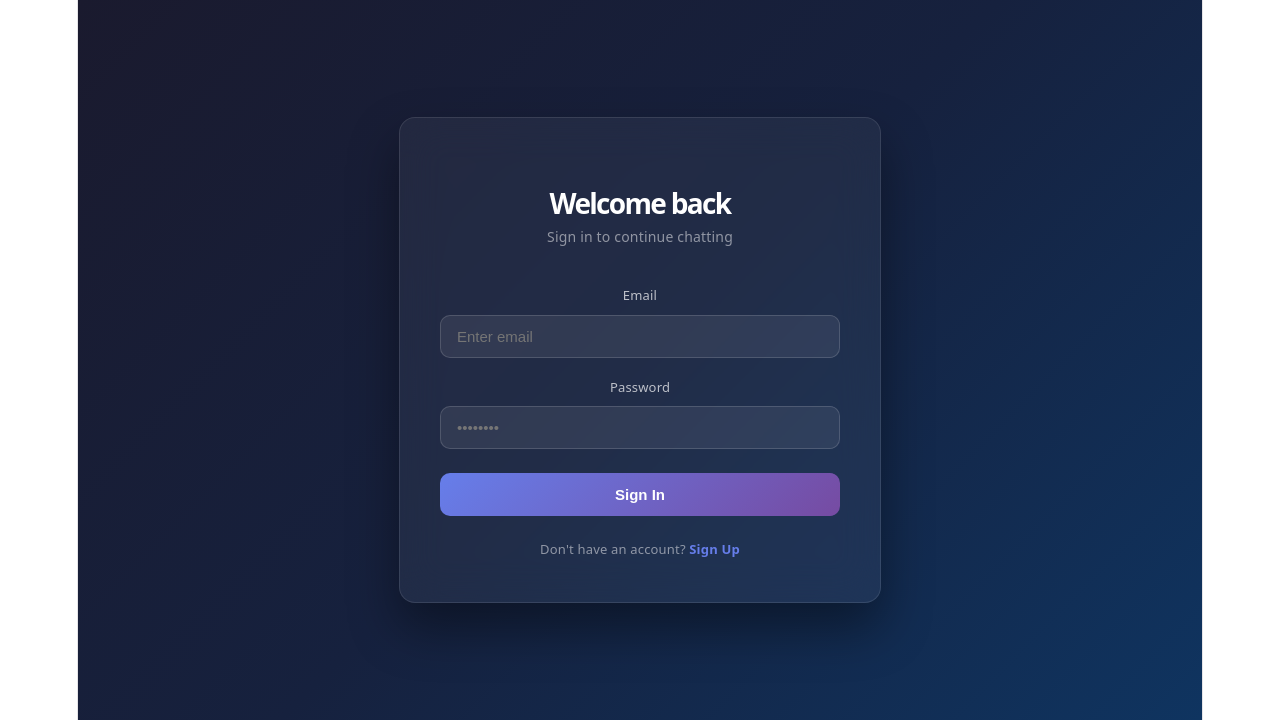
Scenario: Login Component › shows error on invalid credentials (400)
Type "test@test.com" into the field with placeholder "Enter email" at (640, 336), box [440,314,840,358]
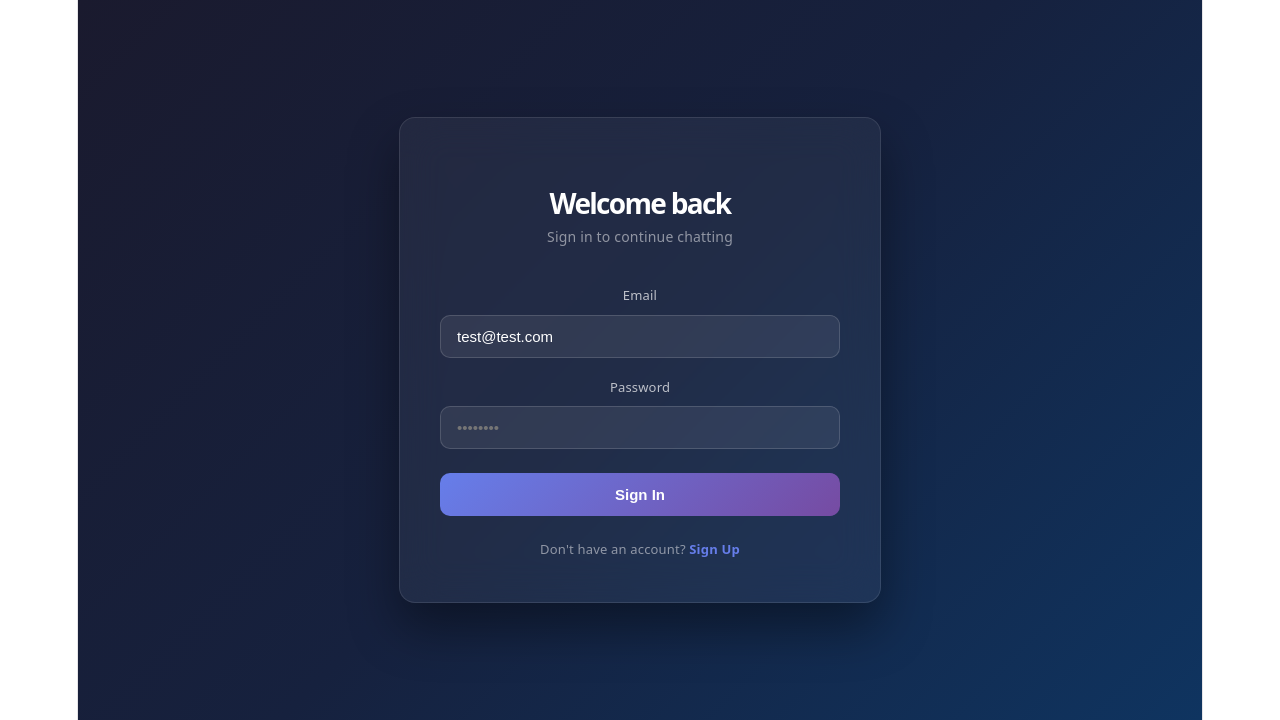
Type "wrongpassword" into the password field with placeholder "••••••••" at (640, 427), box [440,406,840,449]
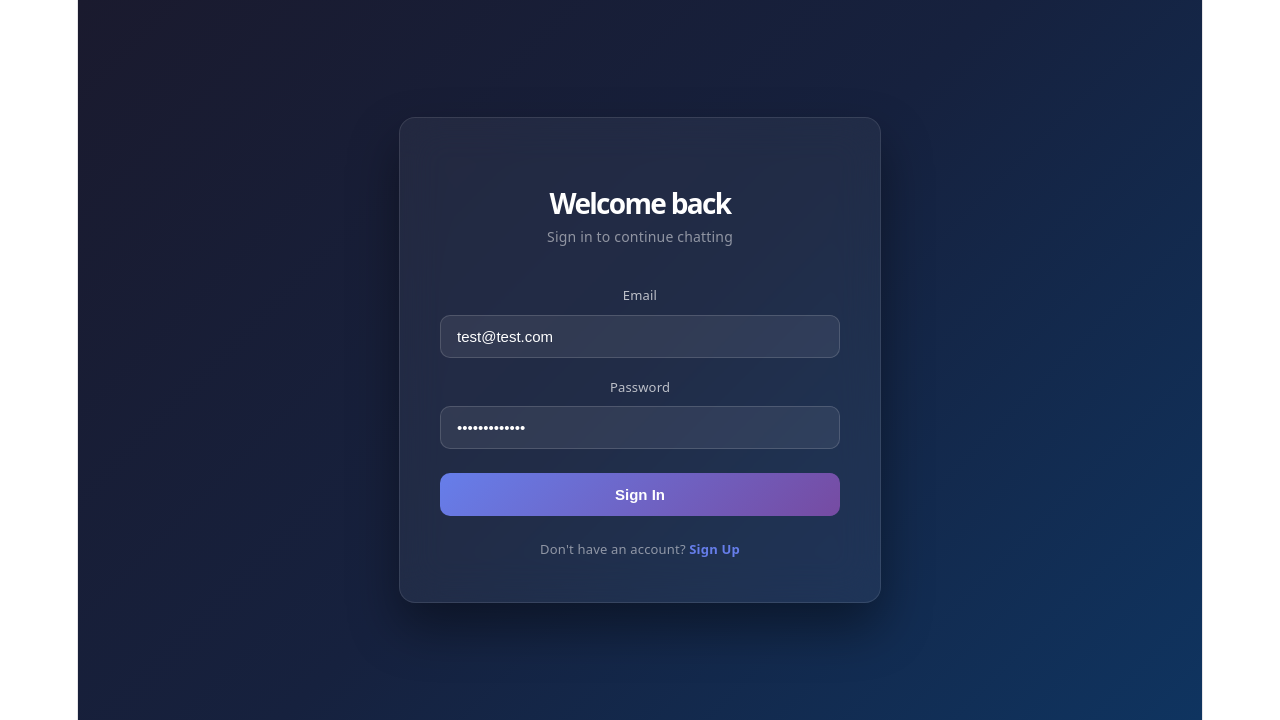
Click the button "Sign In" at (640, 494), box [440,473,840,516]
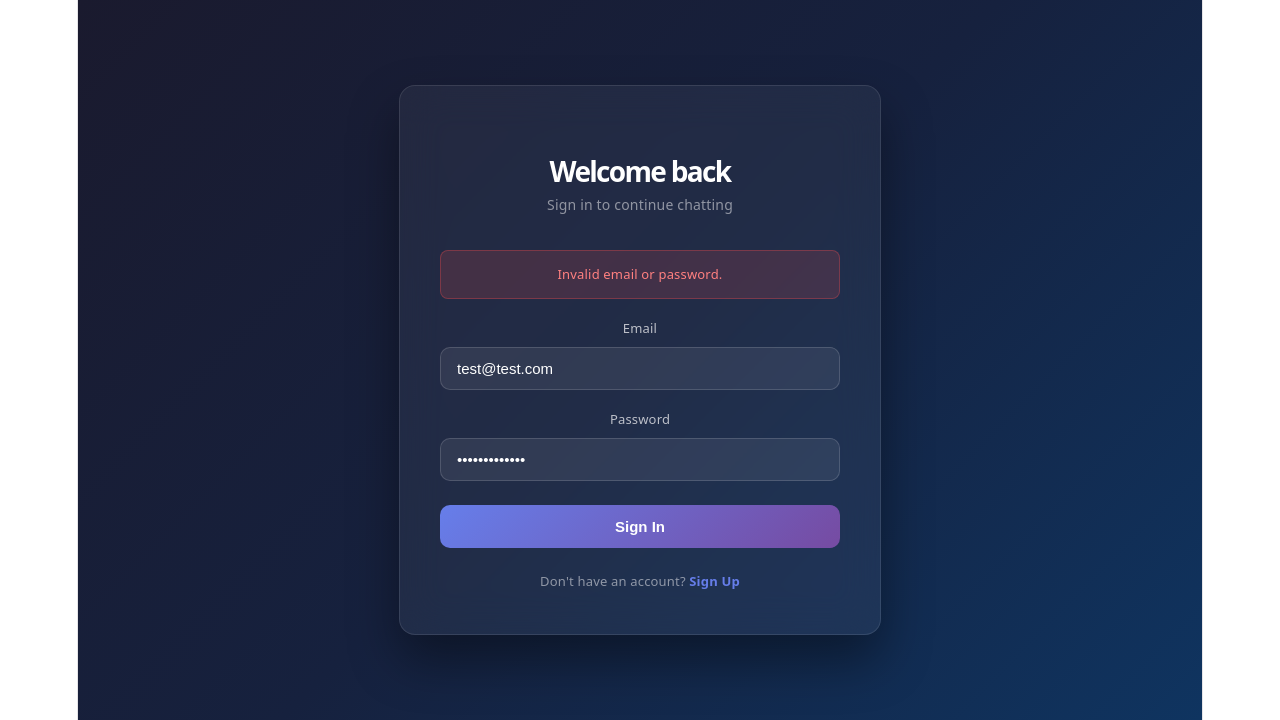
expect the text "Invalid email or password." is shown: met, box [440,250,840,298]
